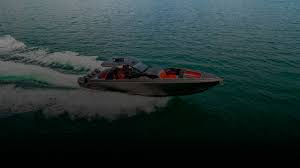boat: (77, 53, 225, 98)
